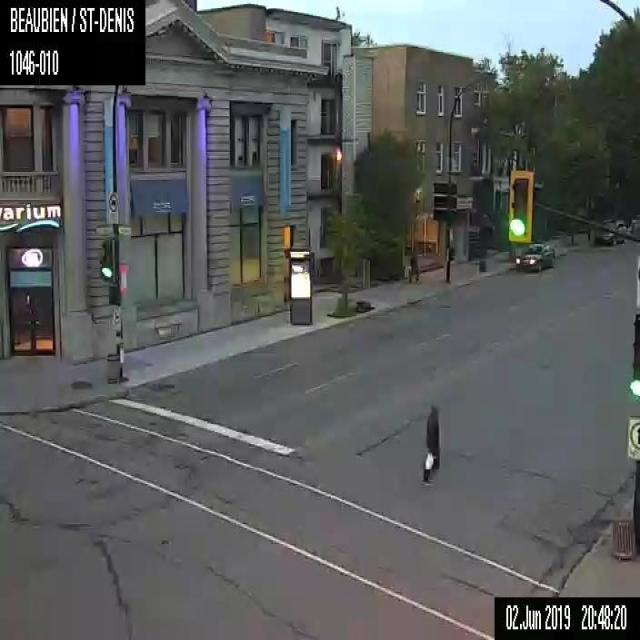pedestrian: (420, 404, 440, 486), (409, 253, 420, 283)
vehicle: (515, 242, 554, 272), (594, 217, 625, 244)
